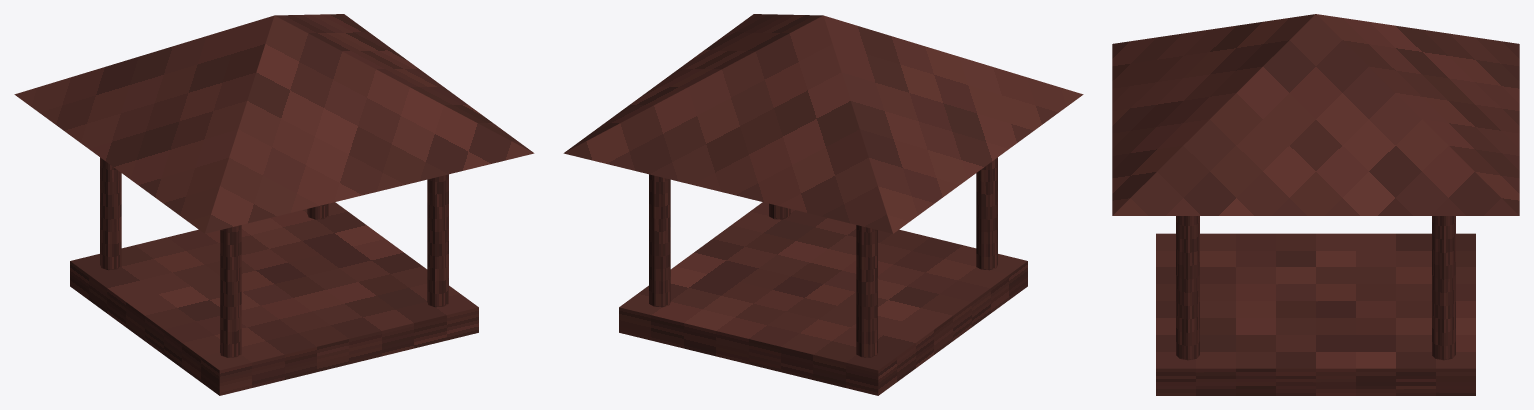
Rendered from pavilion_39.glb.
3 views of the same model, side by side, from view 1: azimuth 30°, elevation 25°; view 2: azimuth 150°, elevation 25°; view 3: azimuth 270°, elevation 25° (orthographic). The views are drawn at different scales.
Parts seen in each view (by area): view 1: Roof, Floor, Column, Column.002, Column.001; view 2: Roof, Floor, Column.001, Column.003, Column; view 3: Roof, Floor, Column.002, Column.003.
Part boxes in pixels (x1,y1,x2,y2): Roof: (14,14,534,233); Floor: (70,202,478,395); Column: (220,225,241,357); Column.002: (427,174,448,307); Column.001: (100,157,121,270); Roof: (563,14,1083,233); Floor: (619,202,1027,395); Column.001: (856,225,877,357); Column.003: (649,174,670,307); Column: (976,157,997,270); Roof: (1112,14,1519,215); Floor: (1156,233,1475,395); Column.002: (1176,216,1199,360); Column.003: (1432,216,1455,360).
Size of the model in its own units: 4.07 by 3.47 by 4.07.
Materials: 1 (1 with a texture image).
